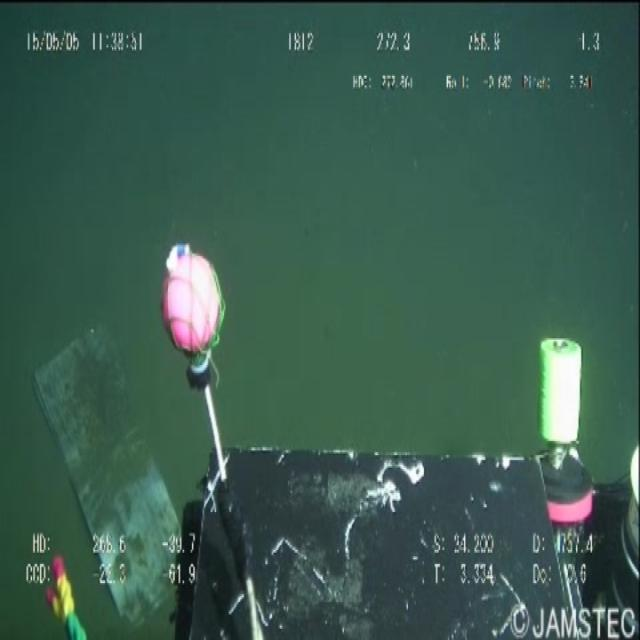Metal: (23, 336, 203, 630)
